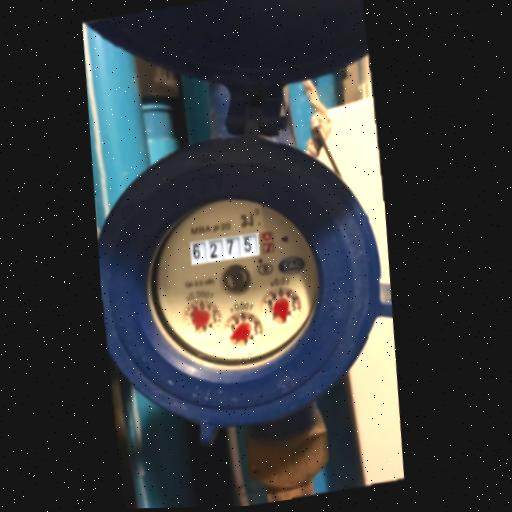2: (207, 240, 223, 259)
5: (242, 235, 258, 254)
6: (261, 232, 275, 254), (191, 243, 206, 263)
7: (224, 237, 240, 257)
border_water_meter_number: (188, 229, 277, 266)
